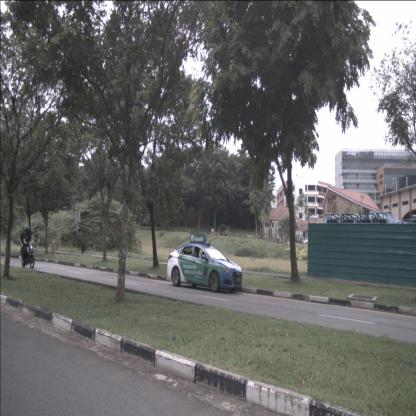human-pedestrian-adult: (277, 234, 279, 244), (273, 234, 275, 243)
vehicle-car: (167, 242, 242, 292), (302, 237, 312, 245), (298, 236, 306, 244)
vehicle-motorcycle: (19, 225, 36, 269)
